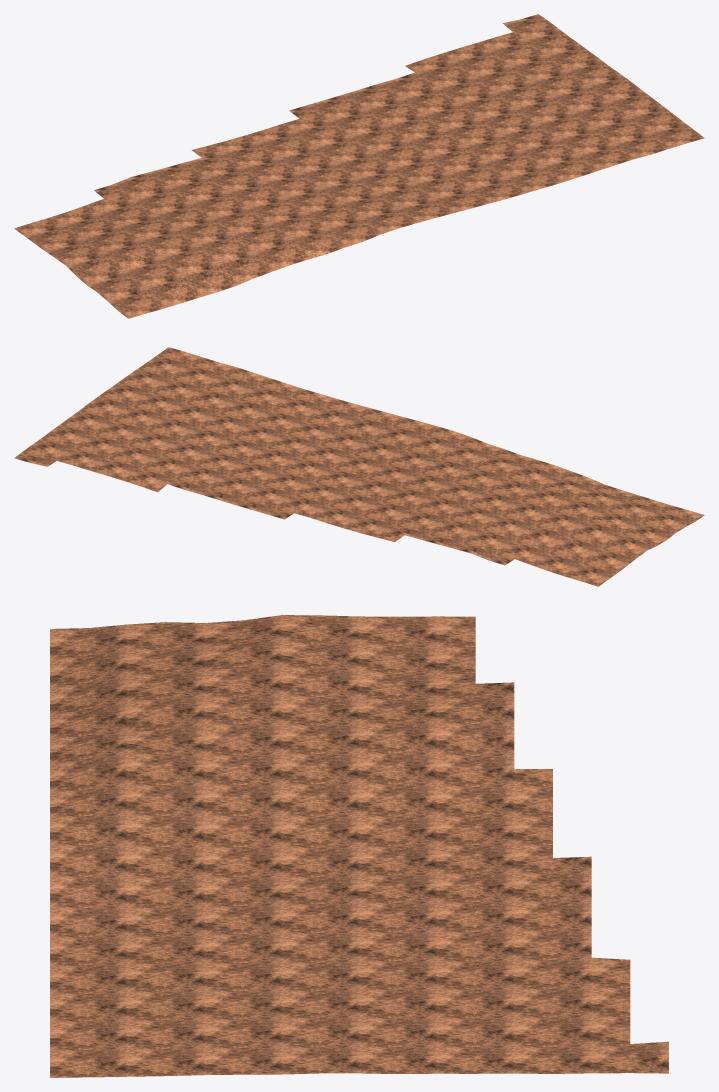
File: terrain_11_10.dae
The picture shows the model from 3 angles, top to bottom: view 1: azimuth 30°, elevation 25°; view 2: azimuth 150°, elevation 25°; view 3: azimuth 270°, elevation 25°; orthographic projection. The views are drawn at different scales.
Parts seen in each view (by area): view 1: terrain_11_10-node; view 2: terrain_11_10-node; view 3: terrain_11_10-node.
Part boxes in pixels (bbox=[...]): terrain_11_10-node: bbox=[14, 14, 704, 318]; terrain_11_10-node: bbox=[14, 347, 704, 586]; terrain_11_10-node: bbox=[50, 615, 668, 1077].
Bounding box in the file's own units: 128 × 64 × 9.03.
Materials: 1 (1 with a texture image).
